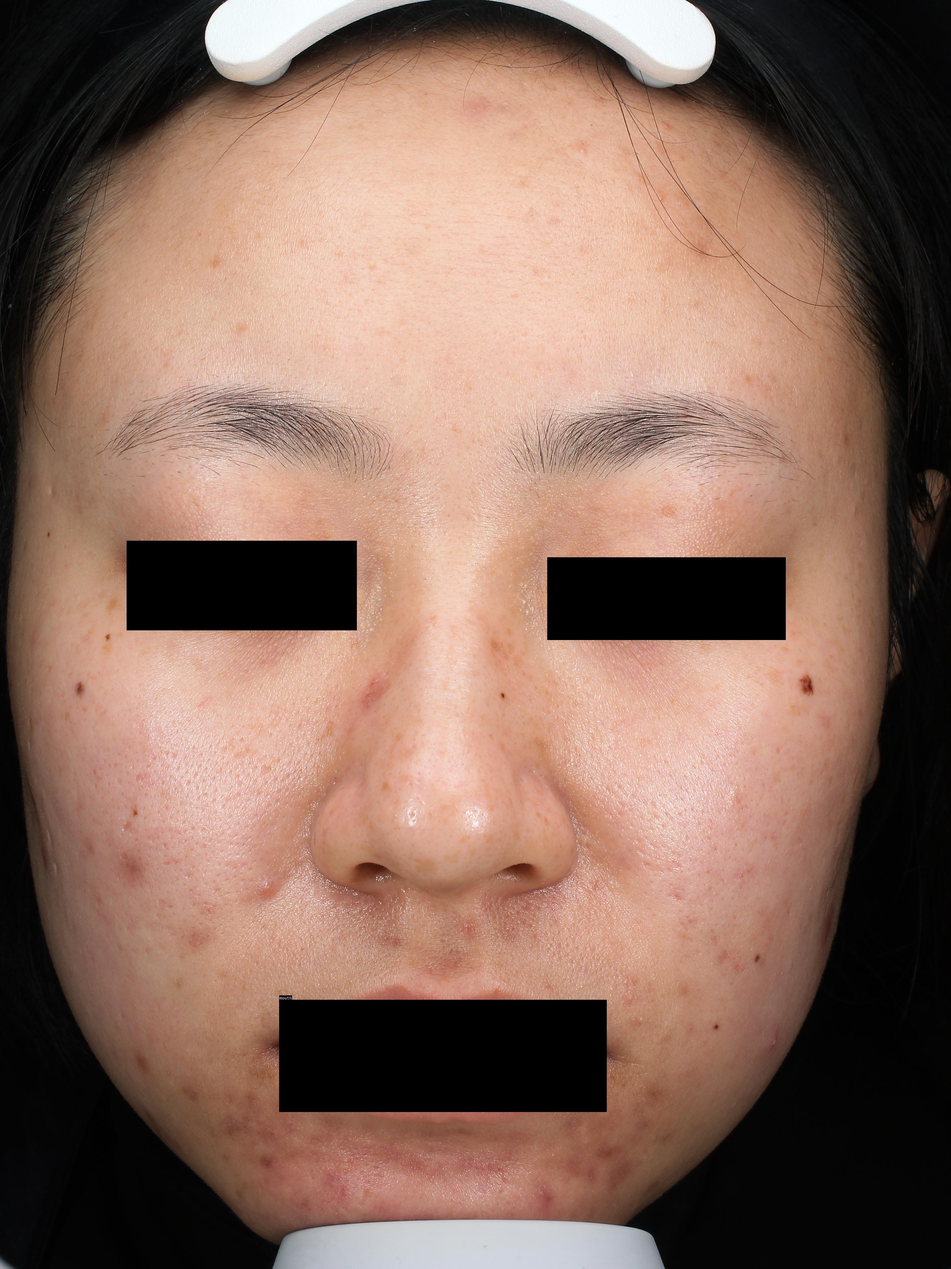atrophic_scar: (357, 1185, 373, 1208), (233, 321, 250, 335), (719, 951, 735, 963), (158, 943, 170, 957), (233, 748, 248, 759), (672, 893, 685, 903), (165, 924, 176, 935), (48, 482, 55, 498), (147, 833, 157, 844), (168, 752, 177, 764), (711, 935, 720, 947), (666, 813, 676, 823), (178, 928, 187, 939), (261, 765, 271, 774), (47, 831, 52, 846), (124, 822, 132, 831), (834, 832, 839, 846), (119, 1012, 126, 1022), (410, 809, 416, 820), (58, 691, 66, 699), (116, 777, 124, 785), (137, 774, 147, 780), (675, 862, 682, 869), (372, 1164, 379, 1171), (96, 898, 102, 906), (735, 965, 741, 973), (853, 774, 857, 786), (829, 778, 833, 789), (158, 898, 164, 905), (29, 718, 32, 732), (121, 852, 127, 859), (155, 912, 161, 919), (53, 862, 57, 872), (643, 862, 651, 867), (798, 836, 802, 846), (177, 955, 185, 960), (214, 888, 220, 894), (825, 888, 829, 897), (685, 833, 689, 841), (185, 872, 190, 878), (163, 861, 170, 865), (440, 938, 445, 943), (163, 843, 167, 849), (28, 741, 31, 749), (449, 948, 453, 954), (94, 784, 98, 790), (777, 747, 780, 754), (429, 967, 432, 972), (93, 769, 95, 775)
closed_comedo: (729, 787, 739, 798), (852, 505, 858, 516), (243, 983, 250, 992), (578, 148, 585, 154), (629, 372, 636, 378), (409, 823, 415, 829), (627, 996, 633, 1002), (658, 194, 663, 200), (701, 377, 706, 382)
hypertrophic_scar: (26, 773, 50, 873), (396, 1144, 432, 1164), (351, 1137, 379, 1148)
melasma: (313, 721, 337, 746), (787, 628, 814, 647), (490, 639, 511, 663), (835, 613, 853, 636), (74, 594, 94, 614), (414, 858, 438, 874), (86, 619, 102, 638), (105, 596, 122, 612), (122, 609, 141, 622), (770, 669, 785, 684), (393, 728, 405, 744), (506, 642, 517, 657), (97, 589, 110, 601), (513, 654, 522, 671), (663, 506, 675, 518), (380, 782, 392, 794), (794, 657, 806, 668), (103, 644, 113, 657), (138, 648, 152, 657), (506, 626, 515, 638), (429, 614, 440, 623), (836, 597, 844, 609), (811, 515, 818, 528), (780, 645, 790, 654), (498, 742, 507, 752), (842, 573, 850, 584), (64, 711, 71, 721), (81, 705, 89, 713), (115, 631, 124, 638), (544, 688, 550, 696), (48, 664, 53, 673), (488, 734, 495, 740), (522, 670, 528, 677), (823, 622, 828, 629), (829, 654, 834, 659)
nevus: (799, 675, 814, 695), (76, 682, 84, 695), (755, 955, 760, 963), (133, 809, 138, 815), (714, 1024, 718, 1030), (106, 634, 109, 639), (502, 693, 505, 697), (48, 532, 49, 538)
open_comedo: (687, 1027, 693, 1033)
other: (359, 674, 394, 708)
papule: (259, 879, 274, 895), (822, 916, 831, 942)
pustule: (770, 1038, 777, 1047), (639, 1017, 643, 1022)
